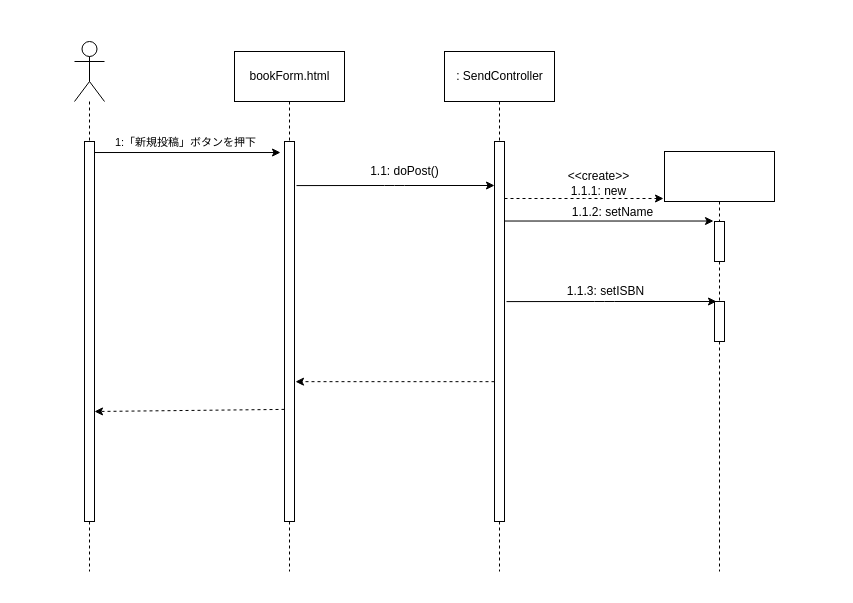
Some shapes in this 853 by 603 pixel diagram are drawn without their labels. Here are the shapes that lost their labels. From the top down, the box of each, then its label:
(74, 40, 104, 102): ：ユーザ
(664, 150, 774, 202): : BookModel
